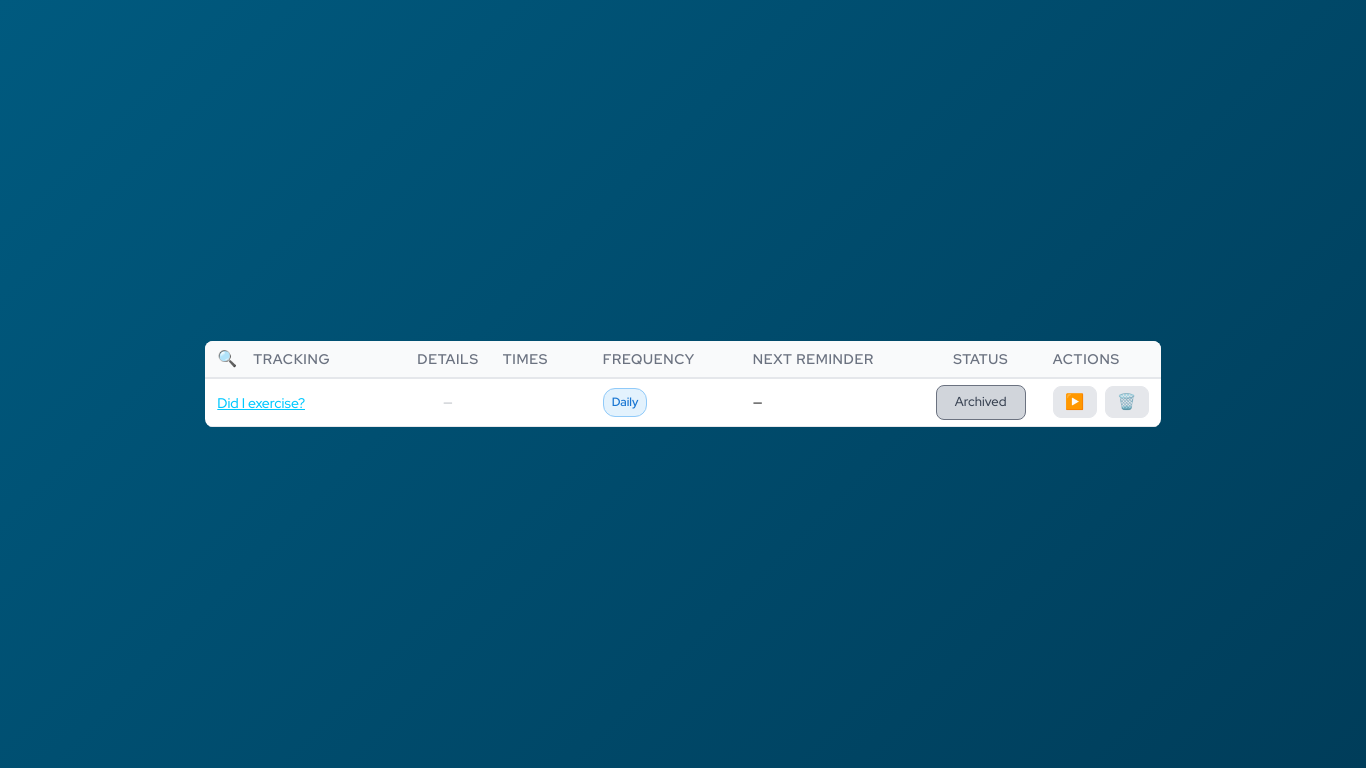
Test case: TrackingsList › should close modal when cancel is clicked
# Find the delete action button
Click the button named "delete" at (1127, 402), box [1105,386,1149,418]
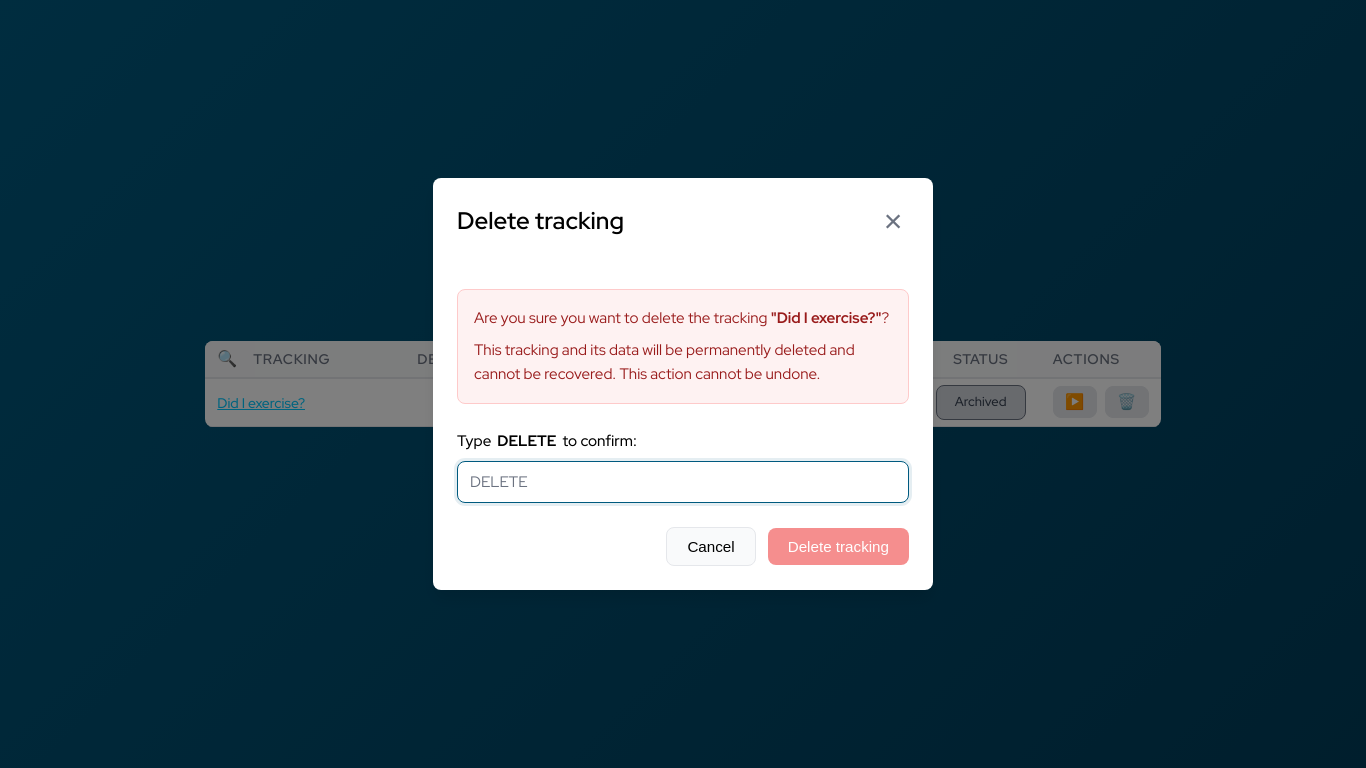
Expected: the heading "Delete tracking" is shown, [457,202,624,241]
# Click cancel button
Click the button "Cancel" at (711, 546), box [666,527,756,566]
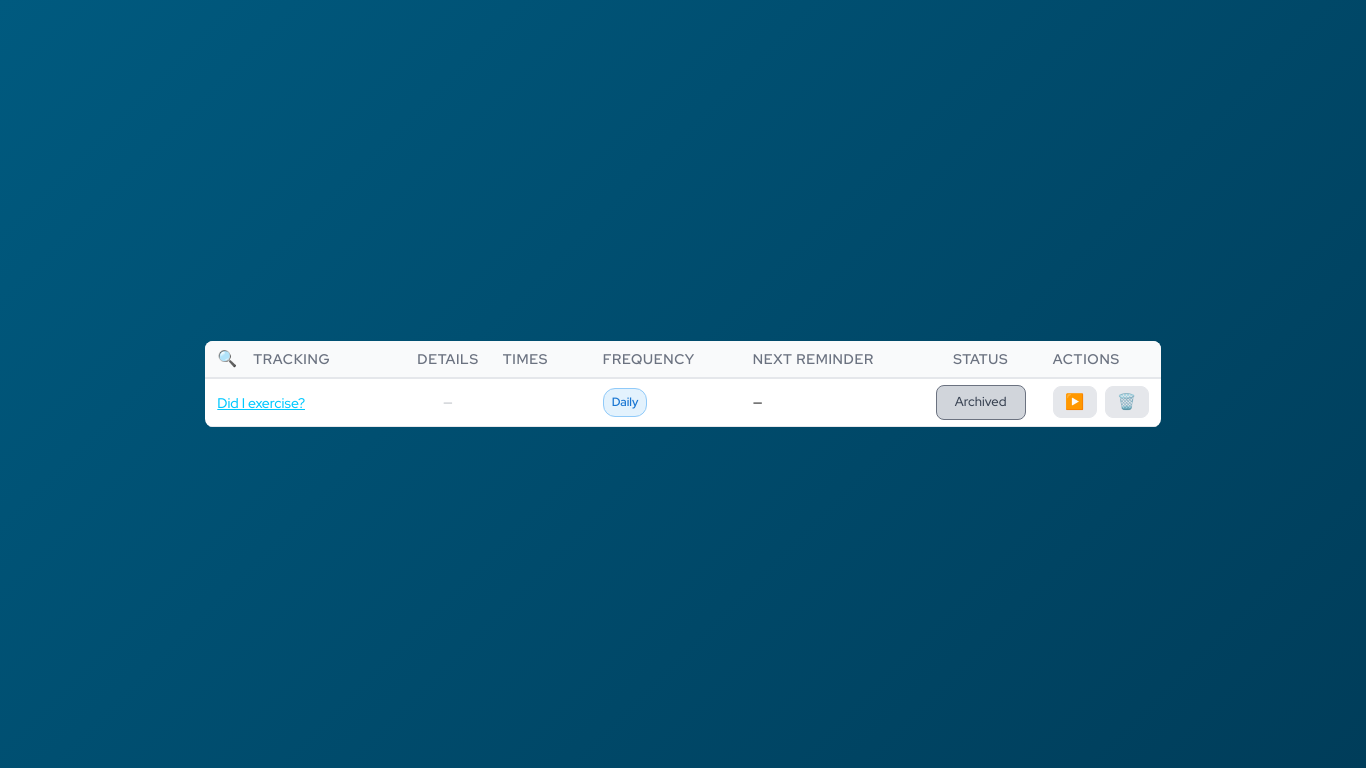
Expected: the heading "Delete tracking" is gone
